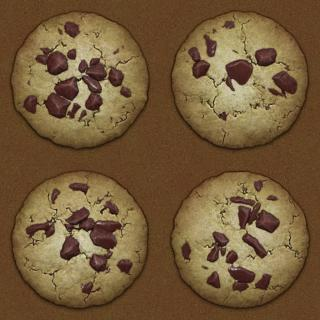Cookie: (10, 9, 150, 150), (172, 9, 312, 150), (11, 168, 150, 309), (172, 172, 312, 310)
